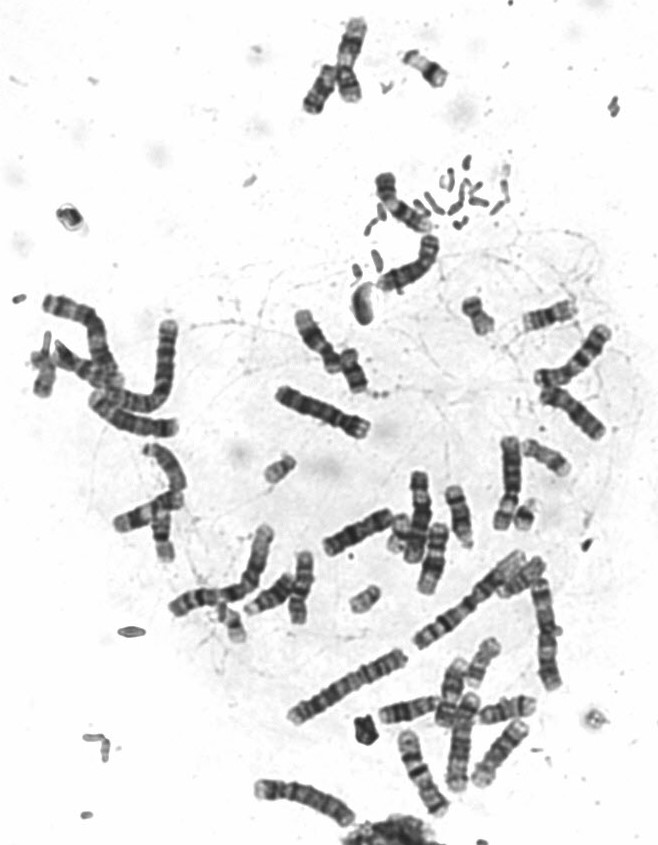chromosomes: (409, 536, 535, 655), (166, 517, 279, 623), (283, 642, 416, 729), (95, 308, 191, 417), (270, 380, 385, 449), (245, 769, 360, 835), (36, 290, 125, 374), (525, 316, 621, 391), (81, 385, 193, 448), (395, 724, 454, 823), (526, 572, 571, 697), (471, 718, 540, 794), (315, 504, 399, 566), (438, 690, 485, 795), (372, 168, 440, 237), (109, 485, 194, 540), (371, 232, 444, 296), (536, 384, 613, 443), (287, 301, 345, 378), (334, 15, 380, 108), (50, 343, 128, 396), (515, 288, 582, 345), (401, 464, 435, 570), (492, 429, 525, 533), (494, 548, 555, 604), (461, 630, 513, 695), (433, 652, 475, 731), (136, 439, 193, 496), (284, 542, 320, 630), (519, 434, 578, 486), (401, 45, 460, 97), (417, 519, 454, 598), (297, 57, 342, 120), (246, 566, 298, 620), (477, 690, 544, 730), (370, 693, 443, 729), (458, 288, 503, 344), (442, 479, 477, 550), (340, 577, 391, 623), (339, 341, 376, 403), (257, 446, 311, 486), (213, 603, 252, 650), (149, 518, 185, 568), (31, 344, 61, 404), (380, 510, 415, 556), (510, 494, 548, 536)
